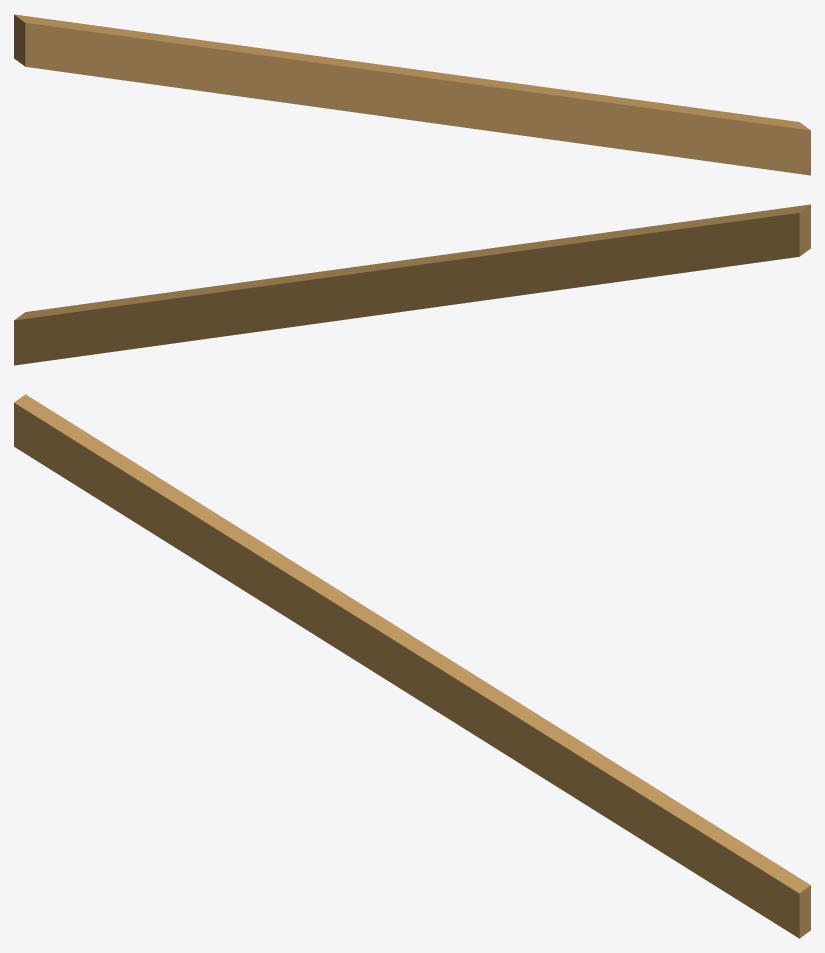
3 renders of one model, top to bottom at view 1: azimuth 30°, elevation 25°; view 2: azimuth 150°, elevation 25°; view 3: azimuth 330°, elevation 25°, orthographic.
Parts seen in each view (by area): view 1: L4-6-S3-3DC-M02; view 2: L4-6-S3-3DC-M02; view 3: L4-6-S3-3DC-M02.
Part boxes in pixels (x1,y1,x2,y2): L4-6-S3-3DC-M02: (14, 14, 810, 175); L4-6-S3-3DC-M02: (14, 204, 810, 365); L4-6-S3-3DC-M02: (14, 394, 810, 938).
Bounding box in the file's own units: 1.78 × 0.745 × 0.045.
